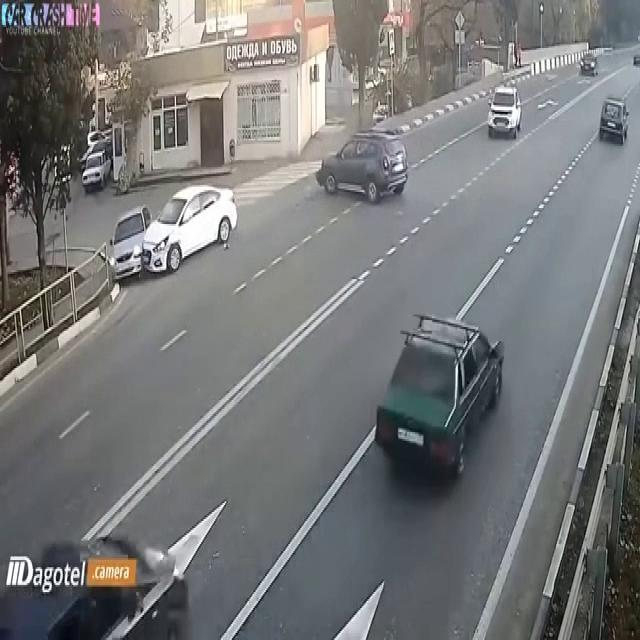accident: (97, 179, 194, 283)
